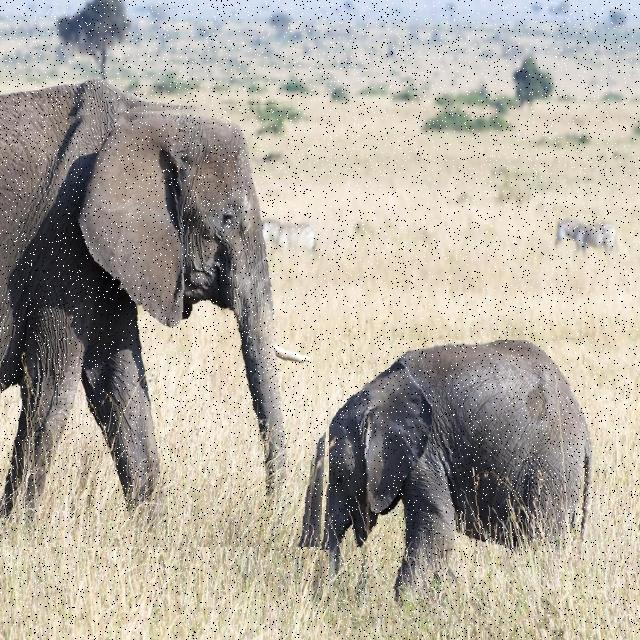elephant: (0, 100, 343, 547), (329, 340, 608, 633)
